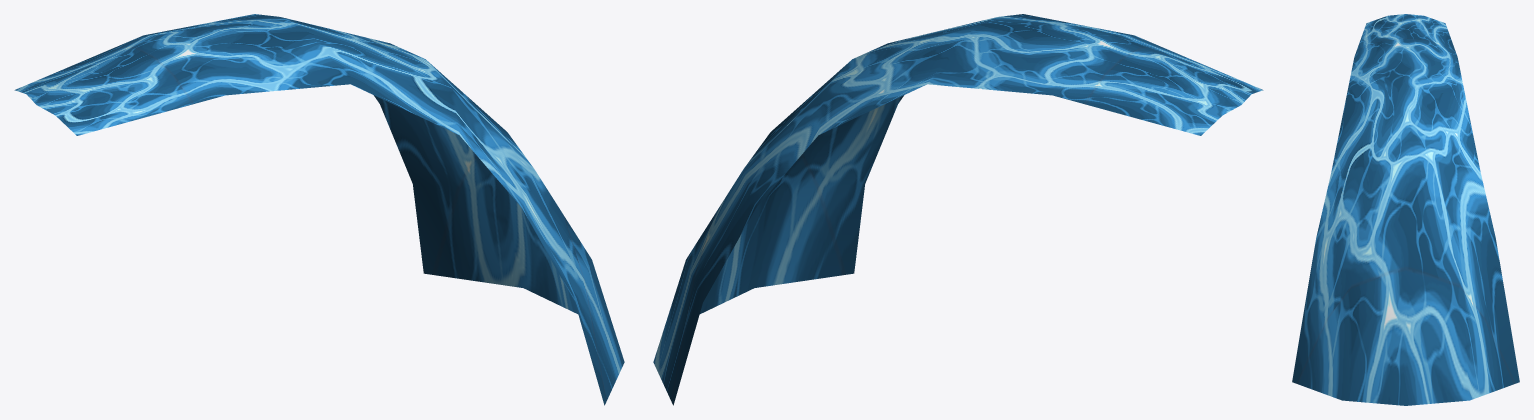
File: A_CA_WAT_WaterSpurt_01.fbx
3 views of the same model, side by side, from view 1: azimuth 30°, elevation 25°; view 2: azimuth 150°, elevation 25°; view 3: azimuth 270°, elevation 25° (orthographic). The views are drawn at different scales.
Visible parts, largest first — view 1: A_CA_WAT_WaterSpurt_01; view 2: A_CA_WAT_WaterSpurt_01; view 3: A_CA_WAT_WaterSpurt_01.
Part boxes in pixels (x1=…): A_CA_WAT_WaterSpurt_01: x1=14, y1=14, x2=624, y2=405; A_CA_WAT_WaterSpurt_01: x1=653, y1=14, x2=1263, y2=405; A_CA_WAT_WaterSpurt_01: x1=1292, y1=14, x2=1519, y2=405.
Bounding box in the file's own units: 734 × 473 × 414.
1 material, 1 textured.
